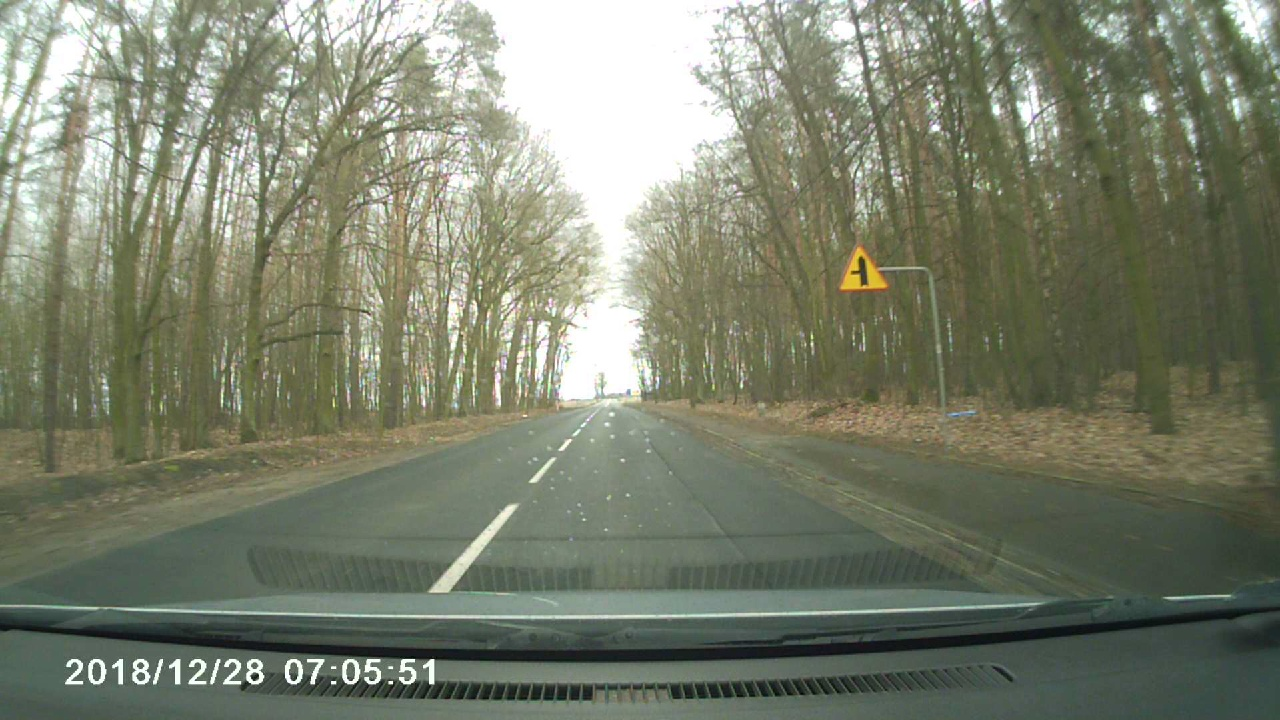A6c: (832, 241, 892, 291)
